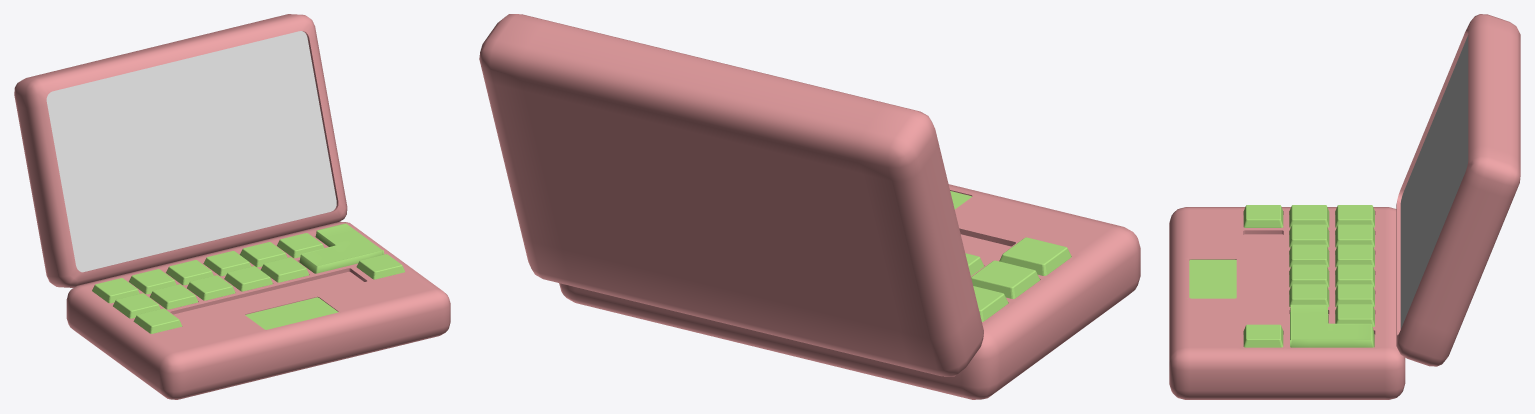
File: laptop.glb
3 renders of one model, left to right at view 1: azimuth 30°, elevation 25°; view 2: azimuth 150°, elevation 25°; view 3: azimuth 270°, elevation 25°, orthographic. The views are drawn at different scales.
Visible parts, largest first — view 1: Laptop_Screen, Laptop_Base, Laptop_Screen_Top, Laptop_Button7, Laptop_Button11, Laptop_Button10, Laptop_Button13, Laptop_Button12, Laptop_Button15, Laptop_Button9, Laptop_Button1, Laptop_Button3 (+5 smaller); view 2: Laptop_Screen_Top, Laptop_Base, Laptop_Button13, Laptop_Button8, Laptop_Button1; view 3: Laptop_Base, Laptop_Screen_Top, Laptop_Screen, Laptop_Button7, Laptop_Button15, Laptop_Button13, Laptop_Button10, Laptop_Button9, Laptop_Button11, Laptop_Button12, Laptop_Button2, Laptop_Button3 (+5 smaller).
Boxes of the visible parts, box(x1,y1,x2,y2) form: Laptop_Screen: box(46, 31, 336, 272); Laptop_Base: box(66, 221, 450, 399); Laptop_Screen_Top: box(14, 14, 347, 287); Laptop_Button7: box(299, 223, 384, 273); Laptop_Button11: box(224, 266, 272, 291); Laptop_Button10: box(187, 275, 235, 300); Laptop_Button13: box(133, 308, 182, 333); Laptop_Button12: box(261, 257, 309, 282); Laptop_Button15: box(356, 254, 405, 279); Laptop_Button9: box(150, 284, 198, 309); Laptop_Button1: box(92, 278, 139, 303); Laptop_Button3: box(166, 260, 213, 285); Laptop_Screen_Top: box(479, 14, 983, 376); Laptop_Base: box(559, 184, 1140, 399); Laptop_Button13: box(999, 237, 1071, 275); Laptop_Button8: box(971, 260, 1039, 298); Laptop_Button1: box(973, 286, 1008, 321); Laptop_Base: box(1169, 207, 1405, 399); Laptop_Screen_Top: box(1396, 14, 1520, 366); Laptop_Screen: box(1400, 35, 1468, 329); Laptop_Button7: box(1290, 304, 1374, 347); Laptop_Button15: box(1243, 324, 1283, 347); Laptop_Button13: box(1243, 205, 1283, 227); Laptop_Button10: box(1289, 244, 1329, 267); Laptop_Button9: box(1289, 224, 1329, 247); Laptop_Button11: box(1289, 264, 1329, 287); Laptop_Button12: box(1289, 284, 1329, 306); Laptop_Button2: box(1335, 224, 1374, 247); Laptop_Button3: box(1335, 244, 1374, 267).
Size of the model in its own units: 3.42 by 2.5 by 3.29.
